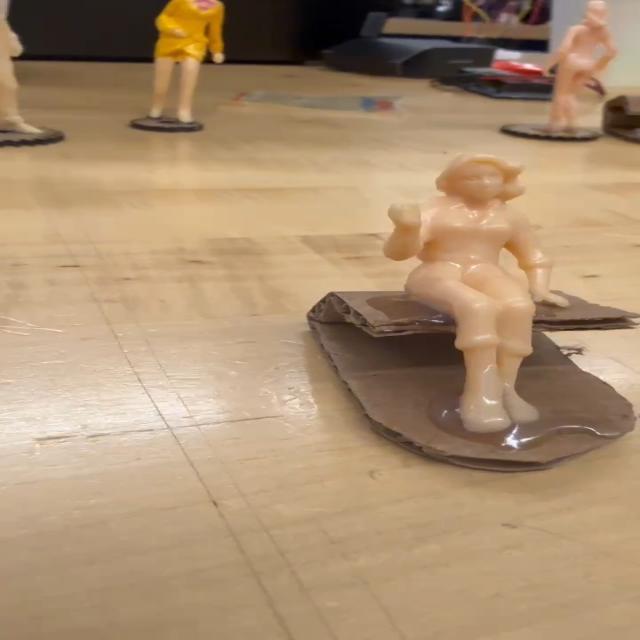Unauthorized: (360, 116, 577, 457)
